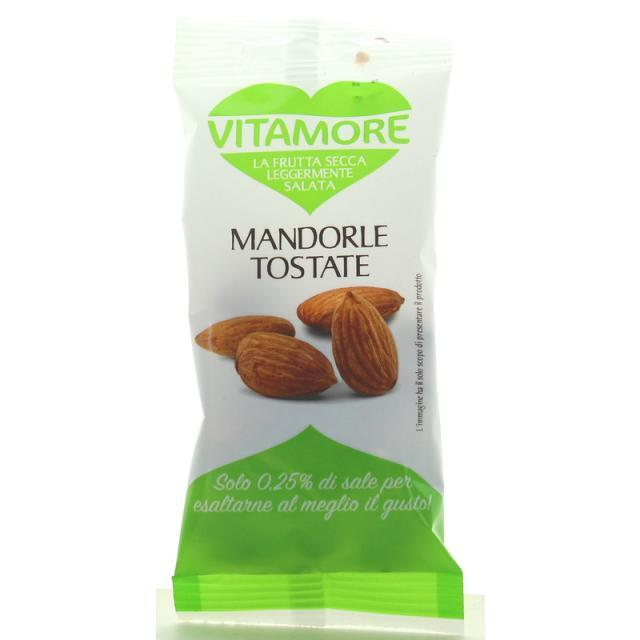Frutta secca: (331, 288, 403, 395), (231, 330, 339, 400)
